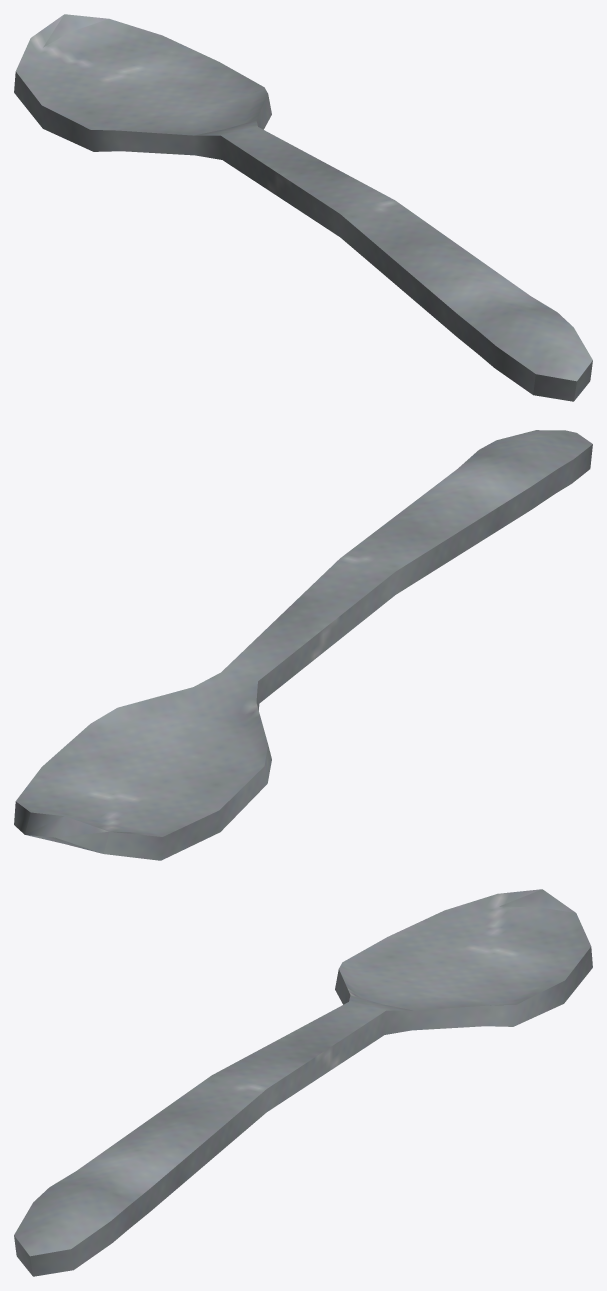
File: CutlerySpoonTable.fbx
The picture shows the model from 3 angles, top to bottom: view 1: azimuth 30°, elevation 25°; view 2: azimuth 150°, elevation 25°; view 3: azimuth 330°, elevation 25°; orthographic projection.
Visible parts, largest first — view 1: CutlerySpoonTable; view 2: CutlerySpoonTable; view 3: CutlerySpoonTable.
Boxes of the visible parts, x1,y1,x2,y2 form: CutlerySpoonTable: [14, 14, 592, 401]; CutlerySpoonTable: [14, 430, 592, 860]; CutlerySpoonTable: [14, 889, 592, 1276].
Size of the model in its own units: 0.0365 by 0.0147 by 0.1855.
Materials: 1 (1 with a texture image).
